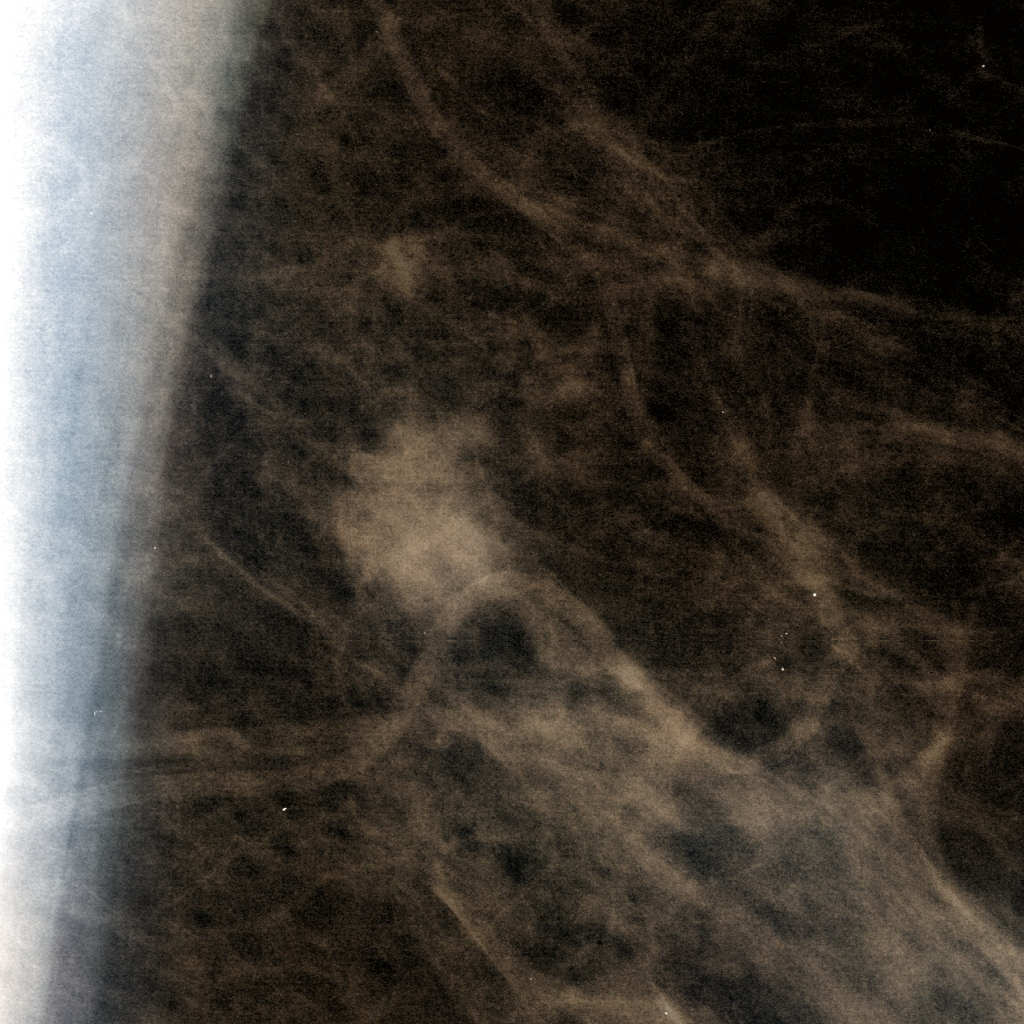tumor: (308, 379, 548, 645)
